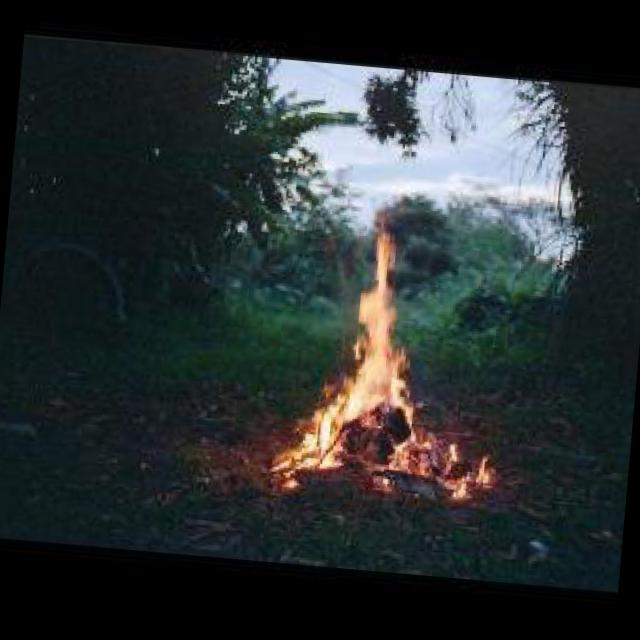fire: (276, 202, 517, 512)
